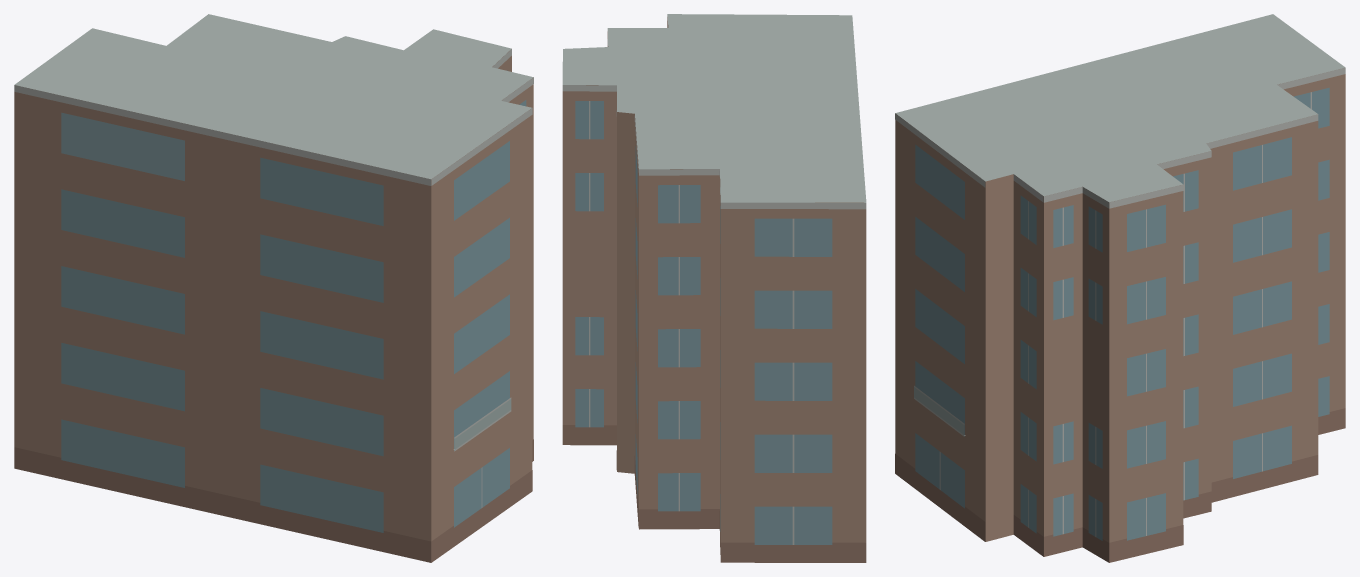
Rendered from survey-upis-32682020.glb.
3 views of the same model, side by side, from view 1: azimuth 30°, elevation 25°; view 2: azimuth 150°, elevation 25°; view 3: azimuth 270°, elevation 25° (orthographic). The views are drawn at different scales.
Visible parts, largest first — view 1: survey-upis-32682020.tmp; view 2: survey-upis-32682020.tmp; view 3: survey-upis-32682020.tmp.
Part boxes in pixels (box(x1,y1,x2,y2)): survey-upis-32682020.tmp: box(14, 14, 533, 562); survey-upis-32682020.tmp: box(562, 14, 866, 562); survey-upis-32682020.tmp: box(895, 14, 1345, 562).
Size of the model in its own units: 15.34 by 13.69 by 15.51.
